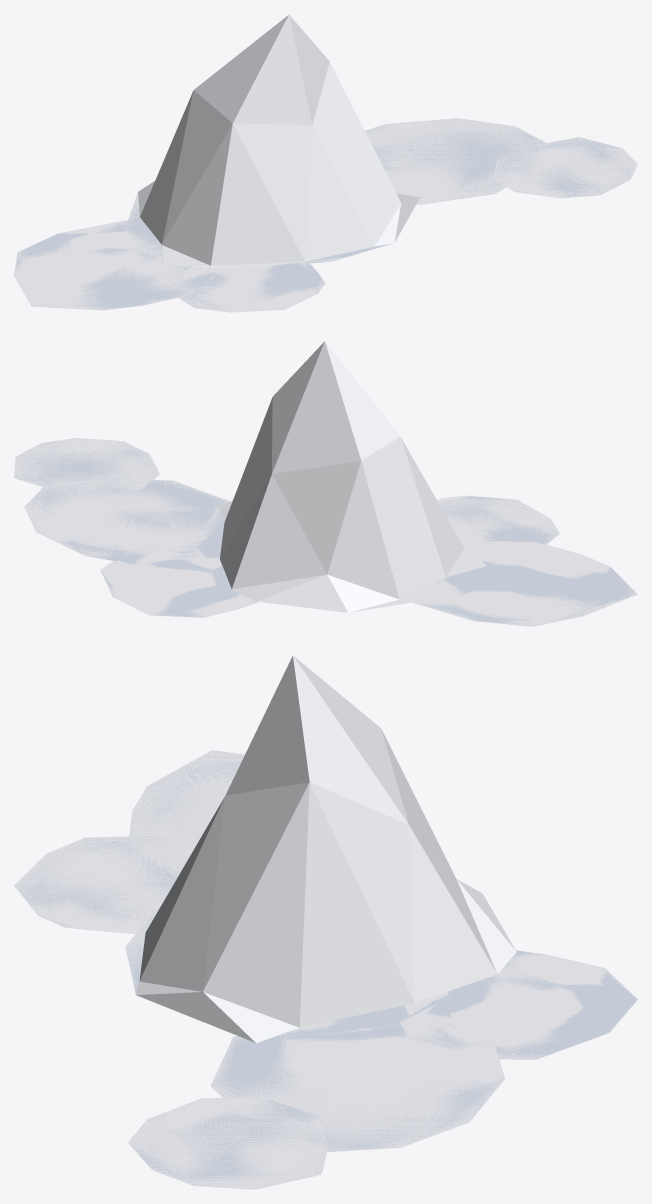
Rendered from cloud.glb.
3 renders of one model, top to bottom at view 1: azimuth 30°, elevation 25°; view 2: azimuth 150°, elevation 25°; view 3: azimuth 270°, elevation 25°, orthographic. The views are drawn at different scales.
Visible parts, largest first — view 1: cloud; view 2: cloud; view 3: cloud.
Part boxes in pixels (<box>): cloud: <box>14,14,637,312</box>; cloud: <box>14,341,637,626</box>; cloud: <box>14,655,637,1189</box>.
Size of the model in its own units: 5 by 1.6 by 3.
